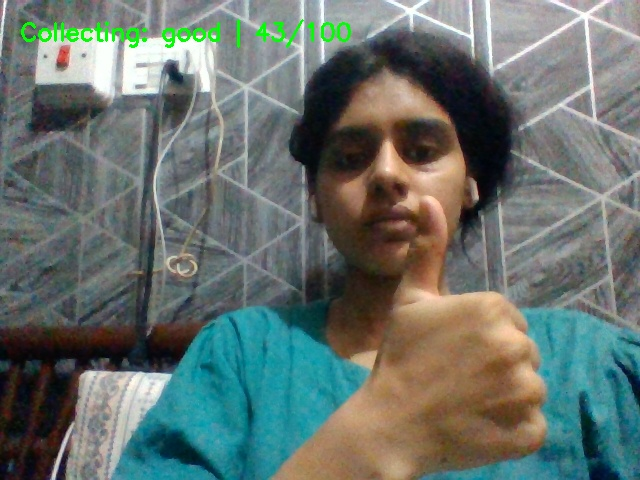good: (378, 188, 575, 478)
